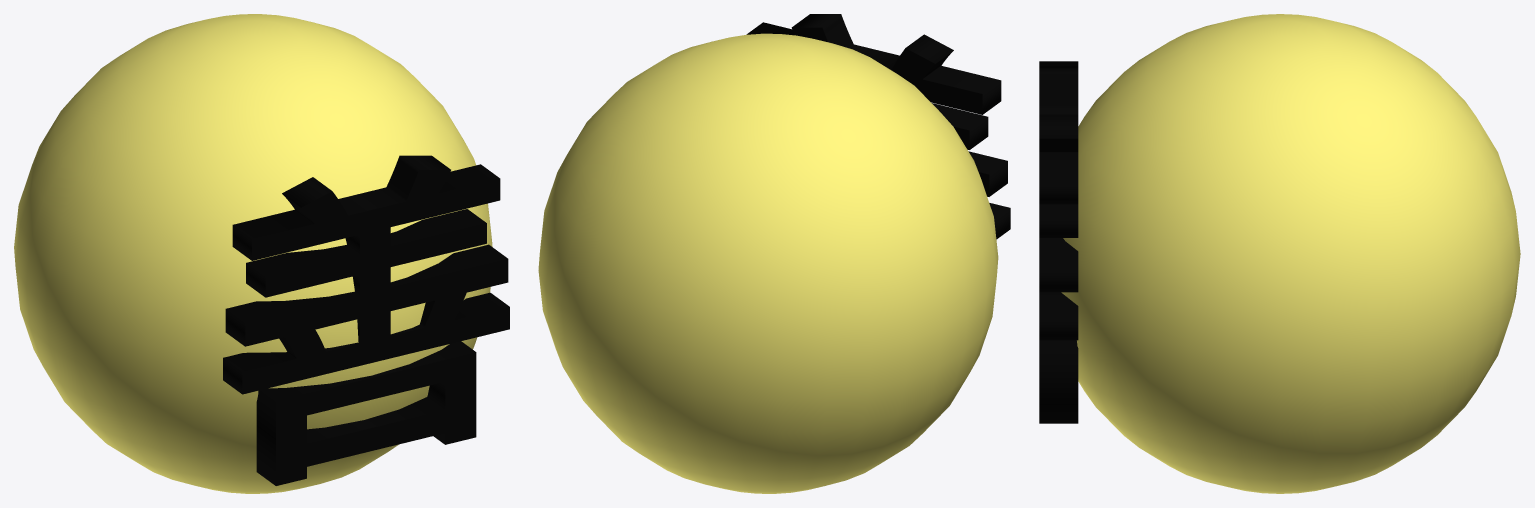
File: Zendama.fbx
The picture shows the model from 3 angles, left to right: view 1: azimuth 30°, elevation 25°; view 2: azimuth 150°, elevation 25°; view 3: azimuth 270°, elevation 25°; orthographic projection. The views are drawn at different scales.
Visible parts, largest first — view 1: 球, テキスト; view 2: 球, テキスト; view 3: 球, テキスト.
Part boxes in pixels (x1,y1,x2,y2): 球: (14, 14, 492, 493); テキスト: (223, 155, 509, 485); 球: (538, 33, 998, 493); テキスト: (746, 14, 1010, 239); 球: (1061, 14, 1520, 493); テキスト: (1039, 61, 1078, 423).
Size of the model in its own units: 200 by 200 by 200.
2 materials, 2 textured.
